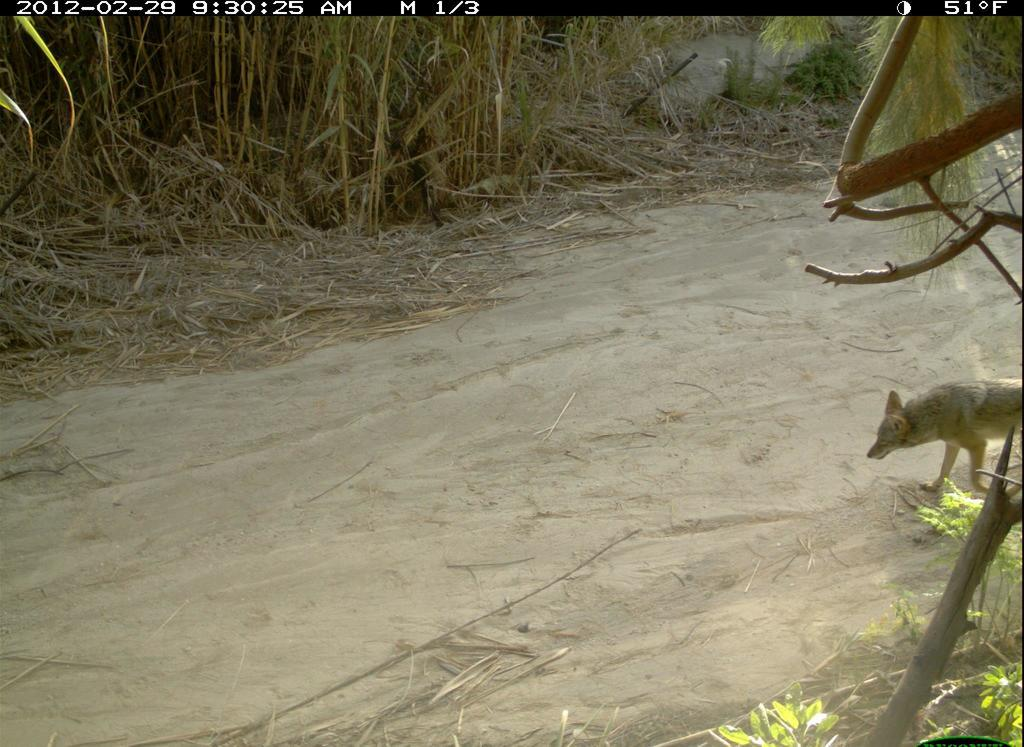coyote: (830, 369, 1018, 488)
